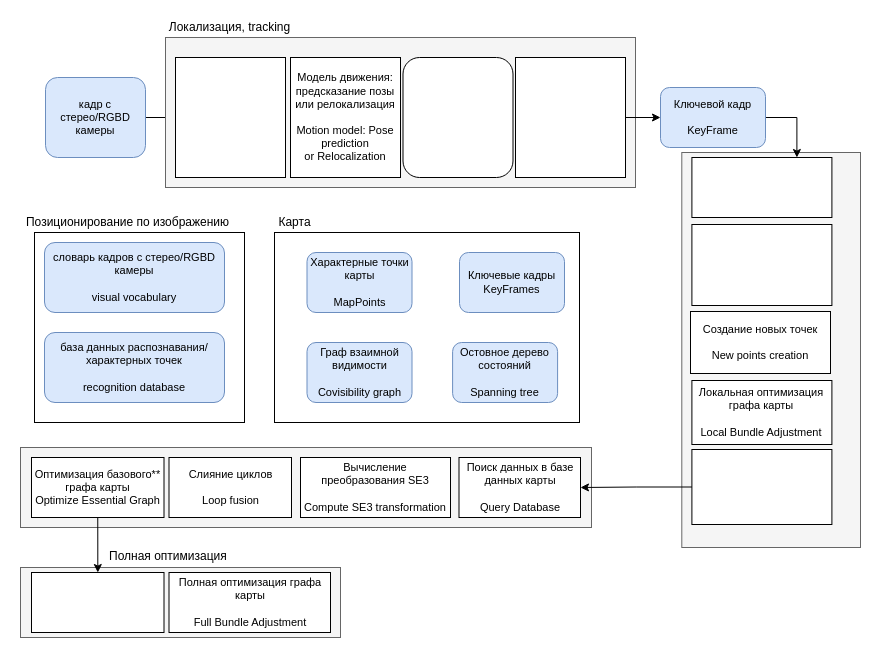
This 878x655 diagram has some shape labels left out. Each missing label, with the centre of its shape:
"Вставка ключевого кадра KeyFrame insertion" belongs at point (761, 187).
"Выбор нового ключевого кадра New KeyFrame Decision" belongs at point (570, 117).
"Обновление карты Map update" belongs at point (97, 602).
"Отбор ключевых точек карты для дальнейшего анализа Culling recent map points" belongs at point (761, 265).
"Отбор локальных ключевых кадров Local KeyFrames culling" belongs at point (761, 486).
"Предобработка входных данных Input preprocessing" belongs at point (230, 117).
"Траектория, Локальная карта Track, Local map" belongs at point (457, 117).
